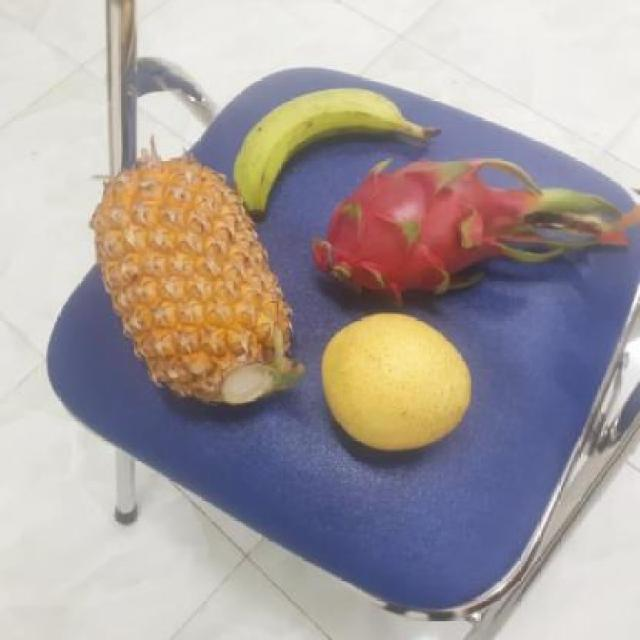banana: (232, 83, 414, 214)
dragon fruit: (299, 160, 532, 315)
pear: (316, 315, 475, 454)
pineapple: (88, 156, 297, 410)
